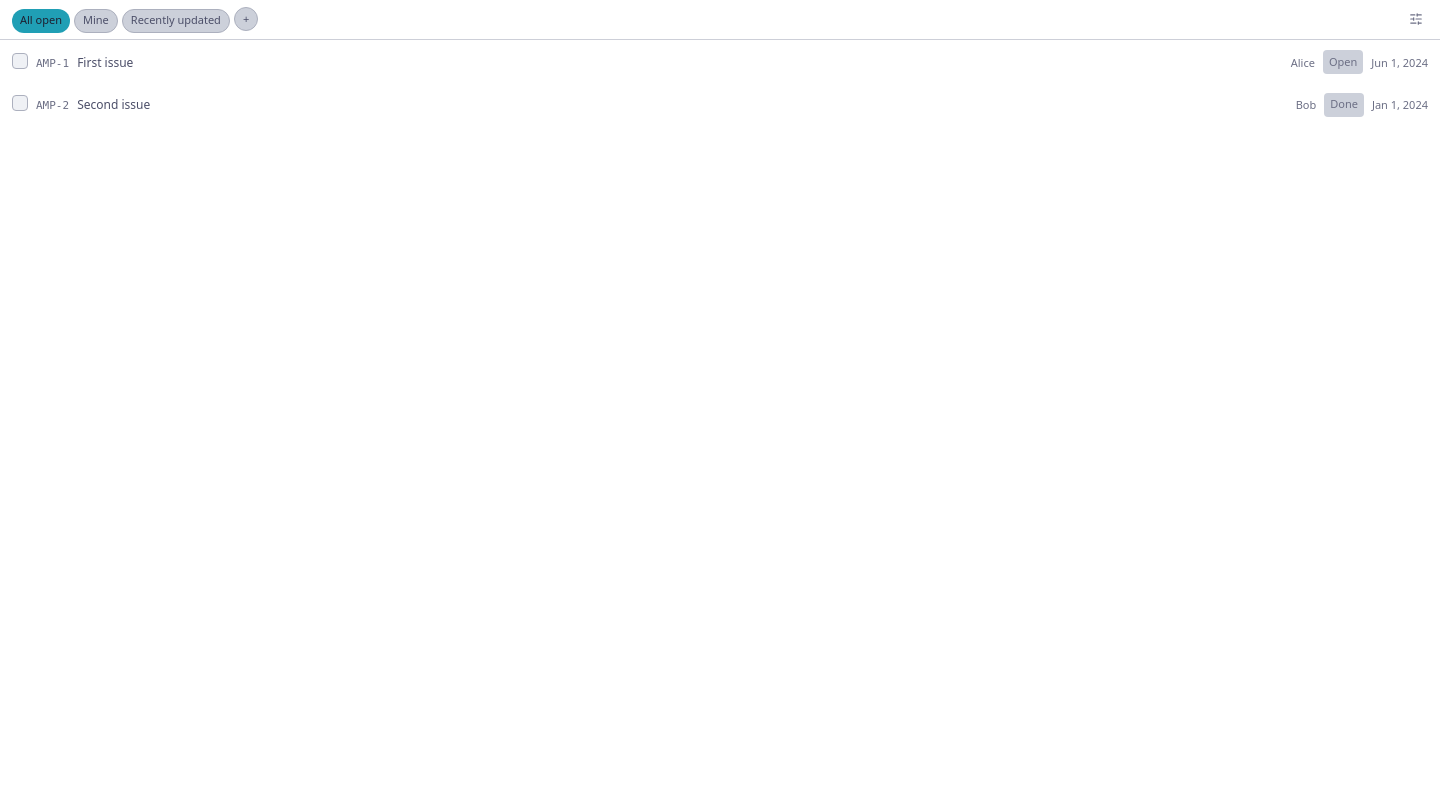
Test: CollectionViewerPage › deletes the last chip in the strip and activates the previous neighbor
Activate "Recently updated" (last chip, position 2)
Click the button "Recently updated": (176, 21) [122,9,230,33]
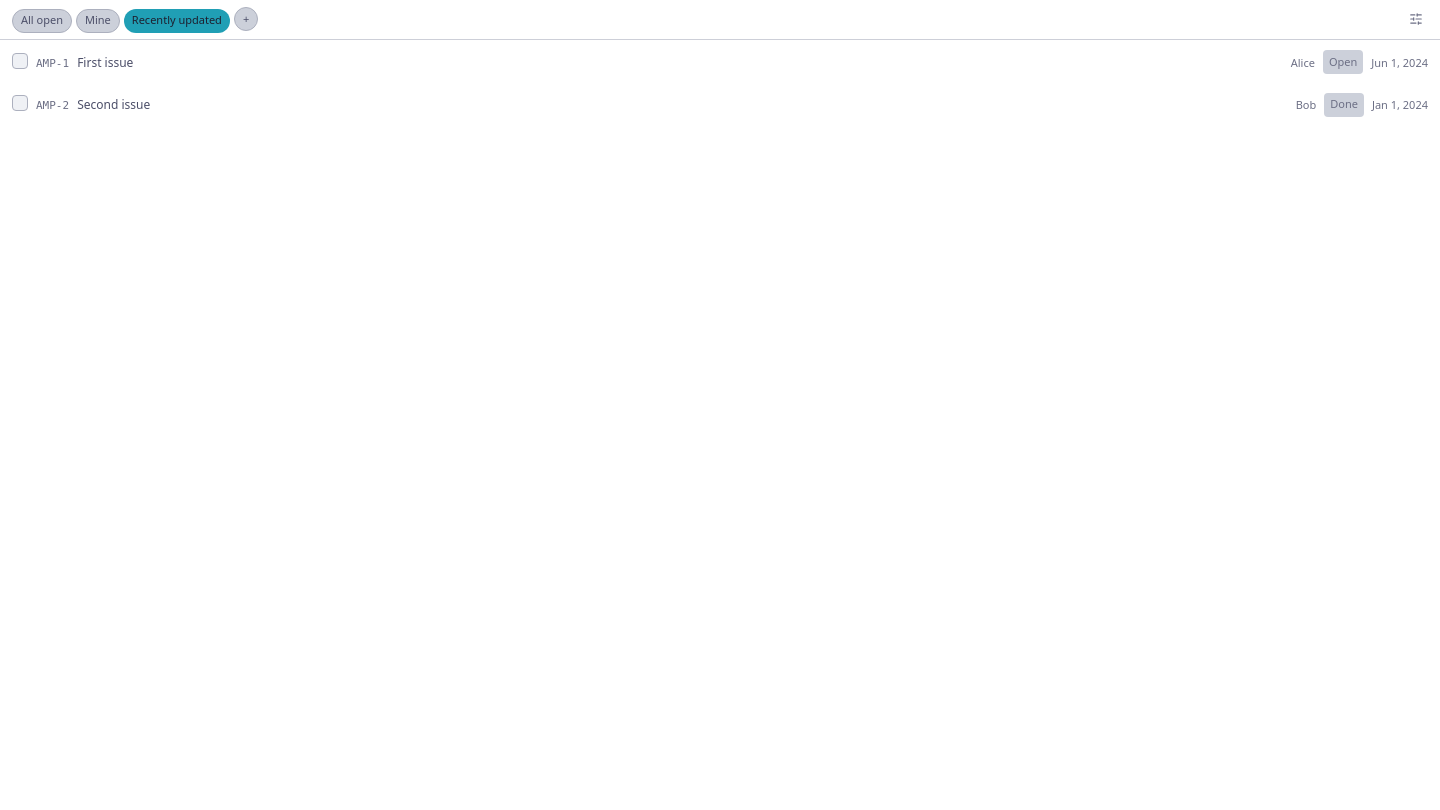
Expected: the button "Recently updated" is marked as current
Delete it via context menu
Right-click the button "Recently updated": (177, 21) [124,9,230,33]
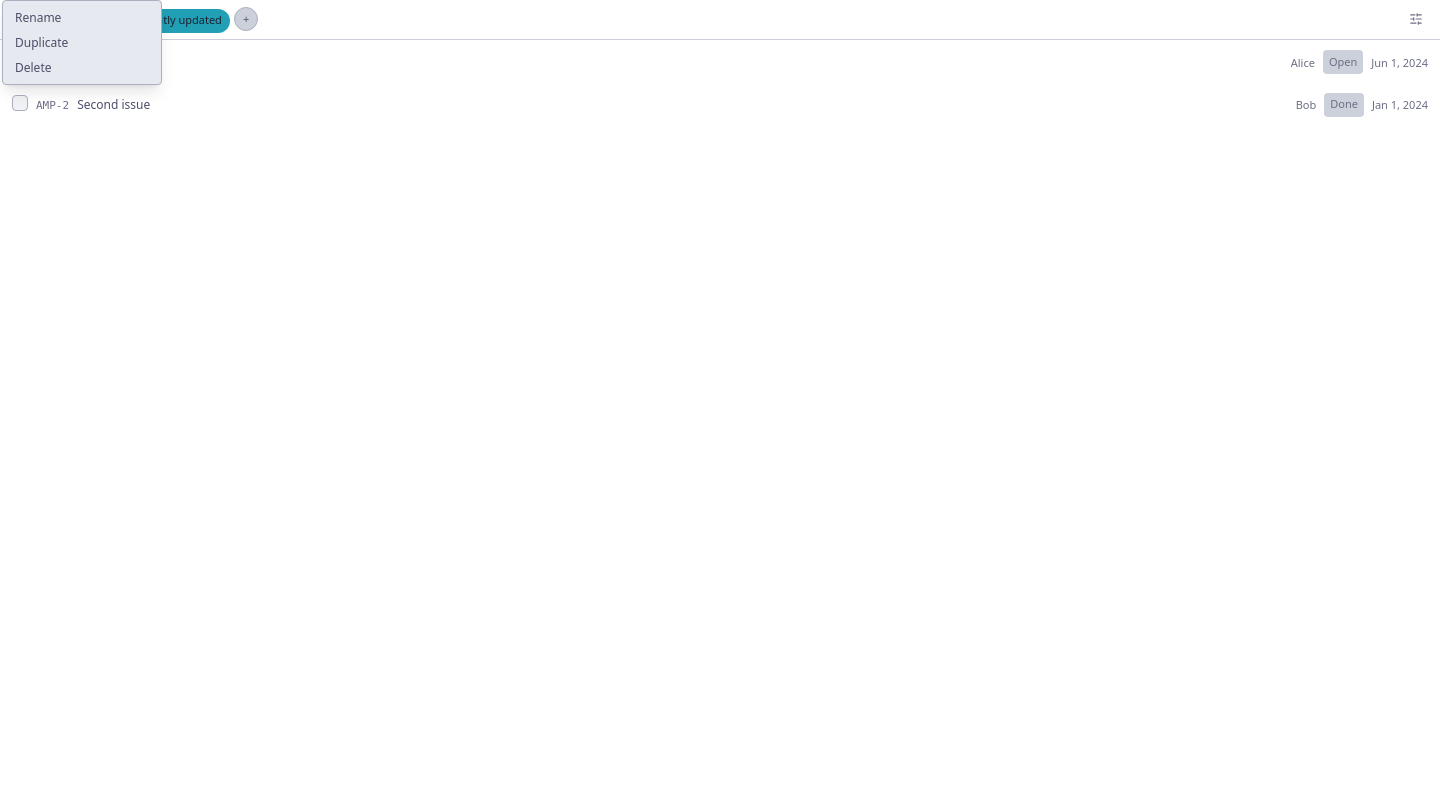
Click the menu item "Delete": (33, 68) [15,59,52,76]
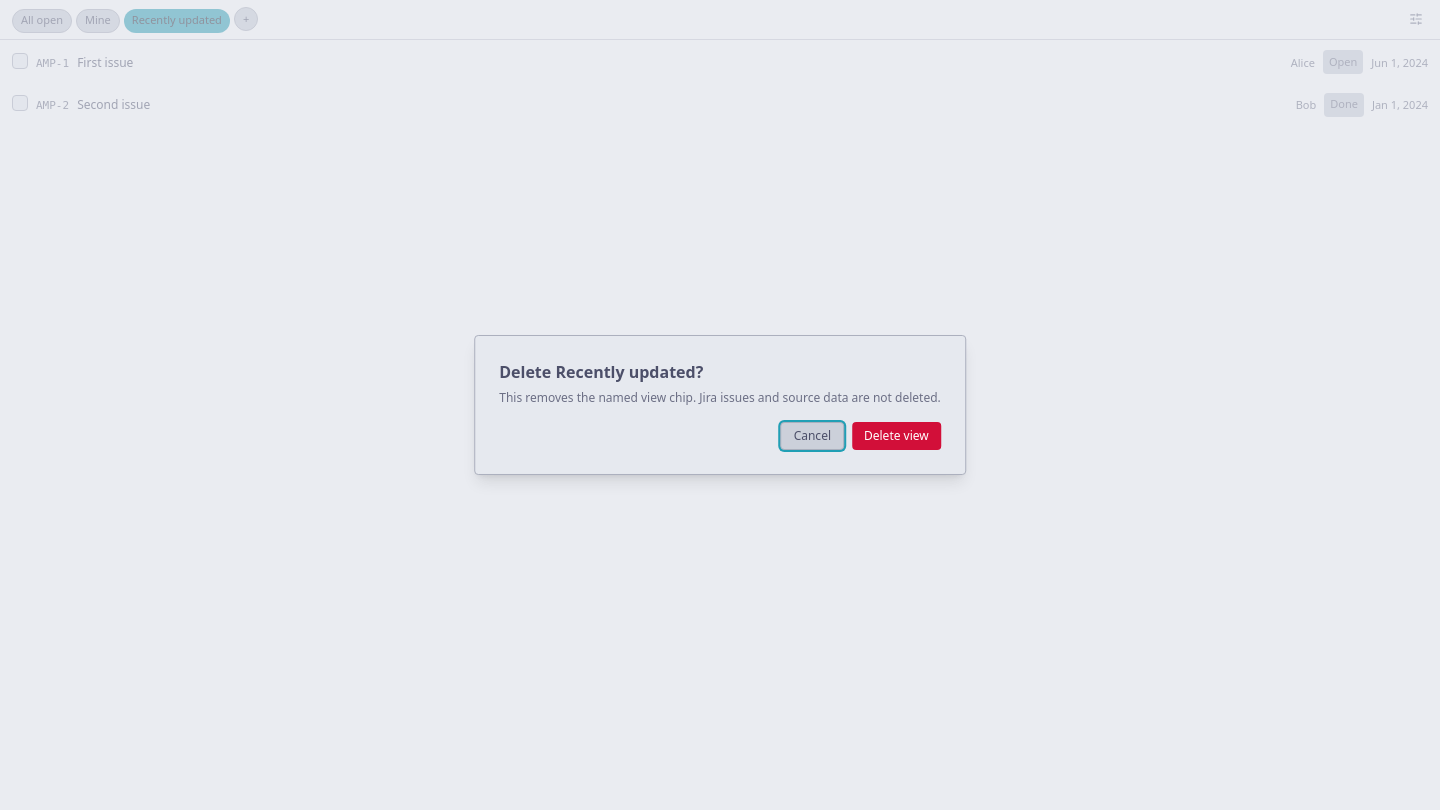
Click the button "Delete view": (896, 436) [852,422,941,450]
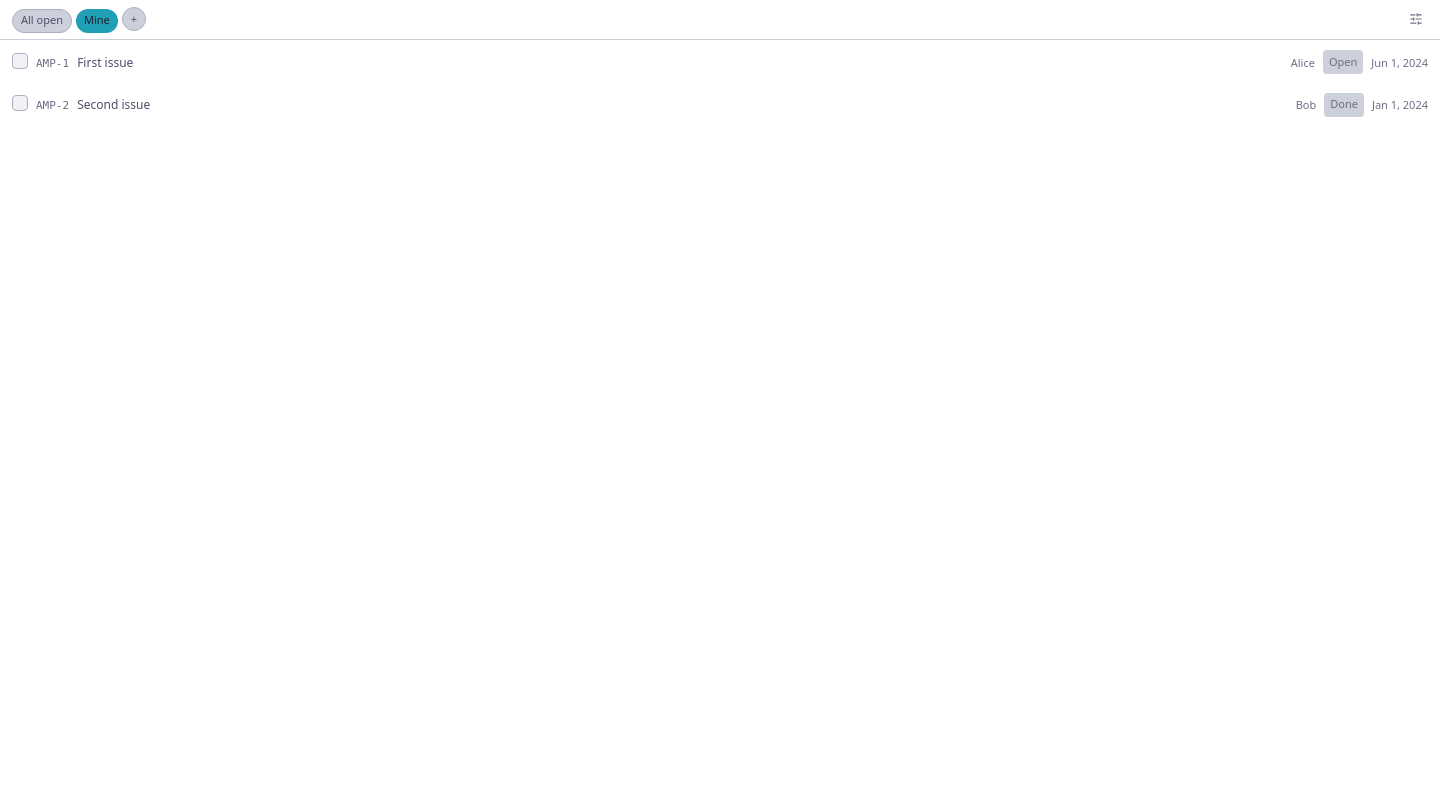
Expected: the button "Recently updated" is gone
